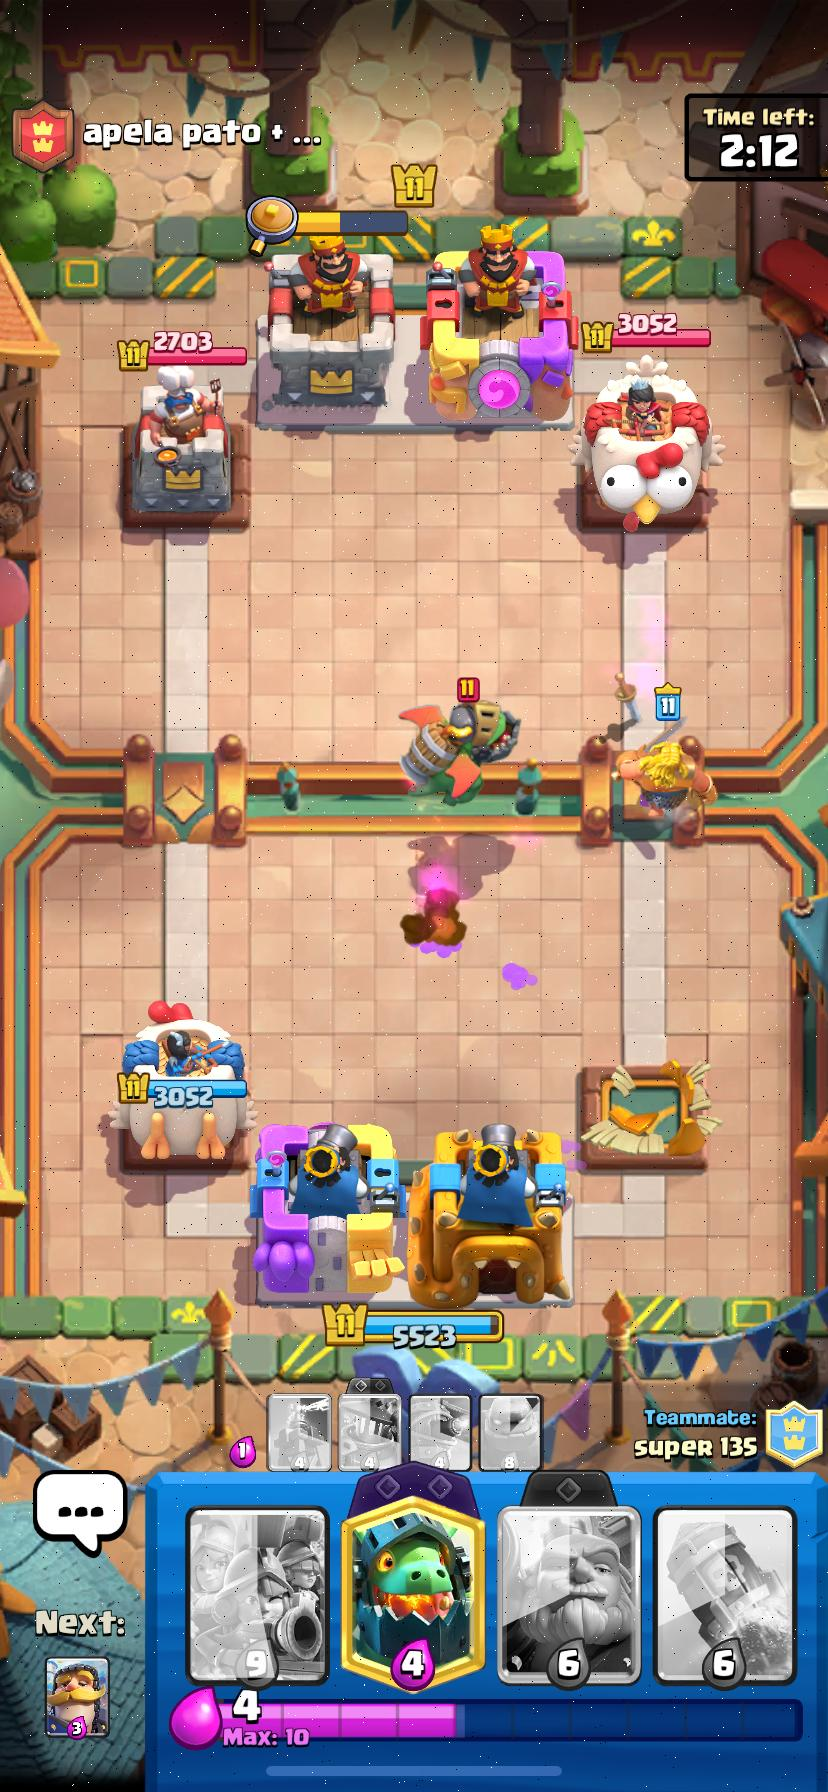EInfernoDrag: (399, 701, 519, 805)
EKingTower: (428, 227, 576, 423), (257, 246, 393, 424)
EnemyPanTower: (134, 368, 229, 514)
EnemyPrincessTower: (573, 355, 720, 530)
ORoyalKnight: (616, 737, 717, 825)
OwnKingTower: (407, 1123, 572, 1307), (252, 1123, 403, 1301)
OwnPrincessTower: (109, 1003, 255, 1160)
TowerDown: (582, 1067, 708, 1166)
